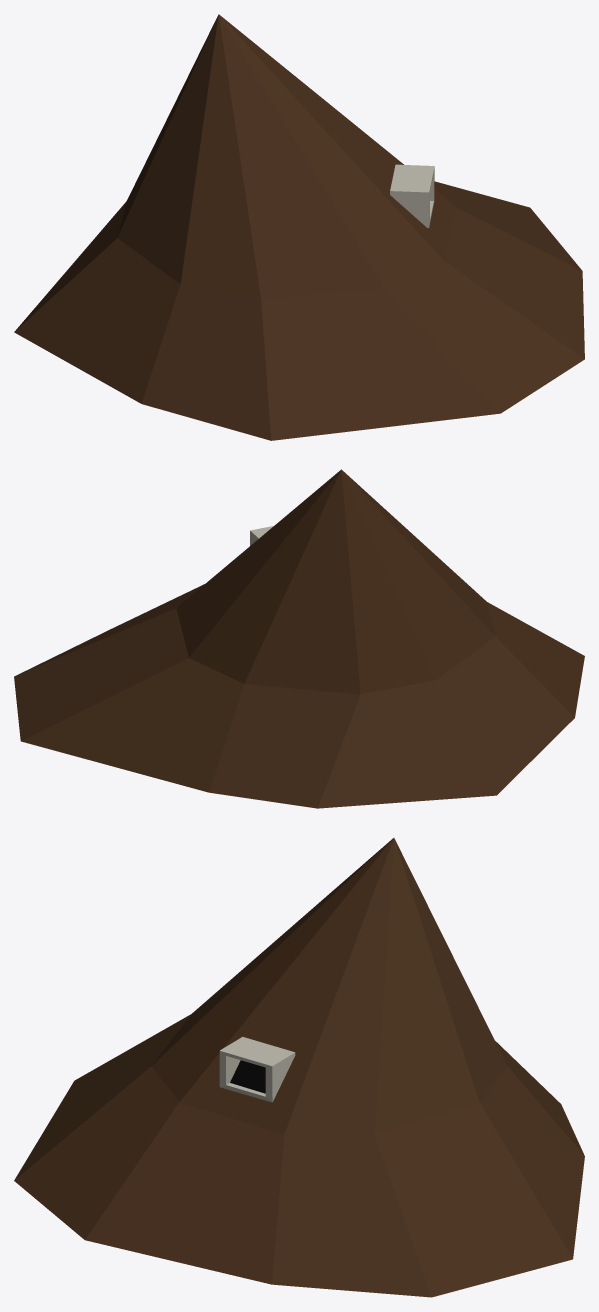
File: Mountain_02.FBX
The picture shows the model from 3 angles, top to bottom: view 1: azimuth 30°, elevation 25°; view 2: azimuth 150°, elevation 25°; view 3: azimuth 270°, elevation 25°; orthographic projection. The views are drawn at different scales.
Visible parts, largest first — view 1: Mountain_02; view 2: Mountain_02; view 3: Mountain_02.
Part boxes in pixels (x1,y1,x2,y2): Mountain_02: (14, 14, 584, 440); Mountain_02: (14, 469, 584, 808); Mountain_02: (14, 838, 584, 1297).
Size of the model in its own units: 75.7 by 40.39 by 70.88.
